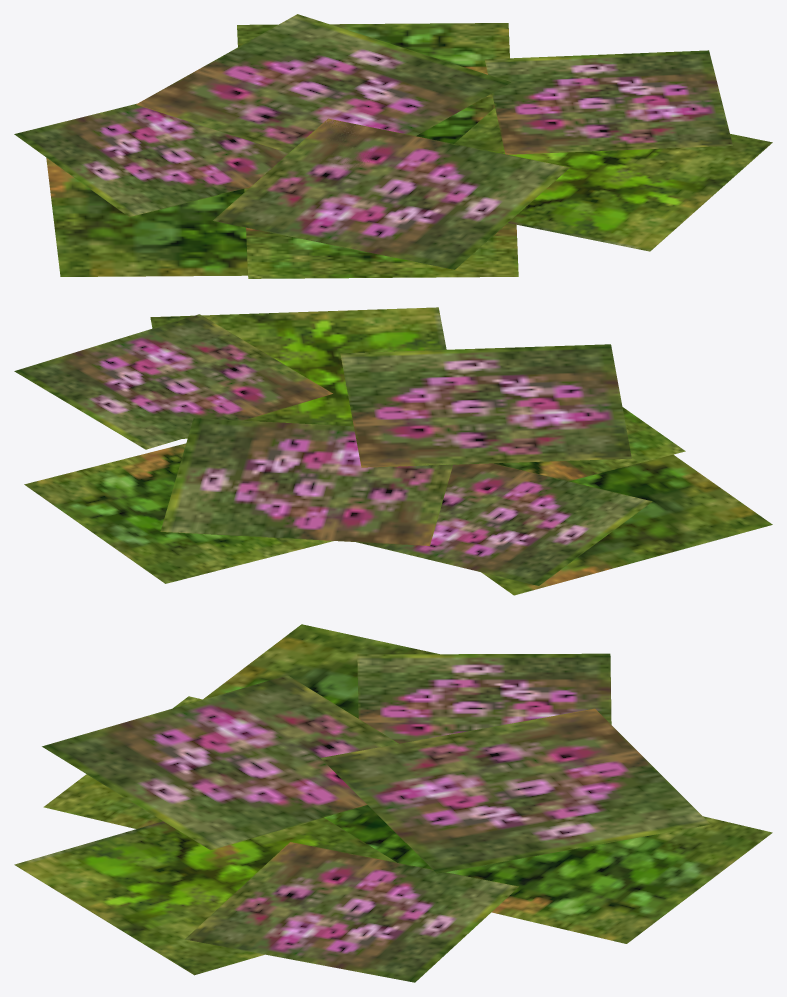
File: world_a_flowers_b.glb
The picture shows the model from 3 angles, top to bottom: view 1: azimuth 30°, elevation 25°; view 2: azimuth 150°, elevation 25°; view 3: azimuth 270°, elevation 25°; orthographic projection. The views are drawn at different scales.
Parts seen in each view (by area): view 1: MeshRoot; view 2: MeshRoot; view 3: MeshRoot.
Boxes of the visible parts, x1,y1,x2,y2 form: MeshRoot: (14,14,772,278); MeshRoot: (14,307,772,595); MeshRoot: (14,624,772,982).
Bounding box in the file's own units: 4.31 × 0.1484 × 3.65.
1 material, 1 textured.
